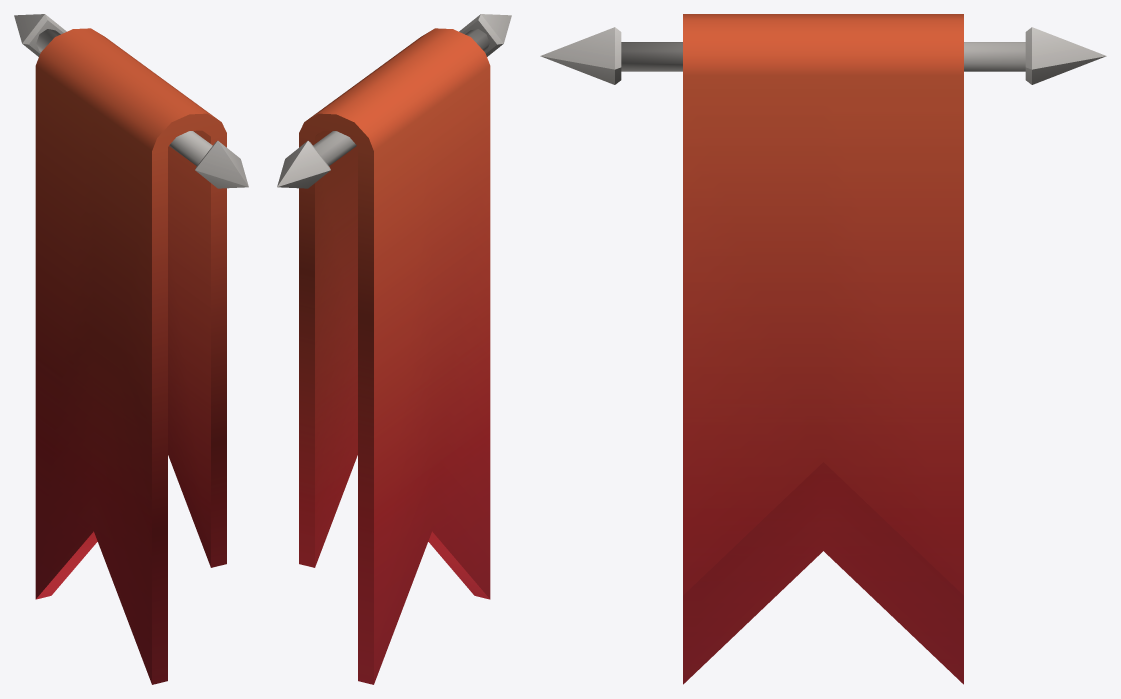
File: dungeonkit_decor_banner.fbx
3 renders of one model, left to right at view 1: azimuth 30°, elevation 25°; view 2: azimuth 150°, elevation 25°; view 3: azimuth 270°, elevation 25°, orthographic. The views are drawn at different scales.
Parts seen in each view (by area): view 1: Cylinder.039; view 2: Cylinder.039; view 3: Cylinder.039.
Boxes of the visible parts, x1,y1,x2,y2 form: Cylinder.039: (14, 14, 248, 684); Cylinder.039: (277, 14, 511, 684); Cylinder.039: (540, 14, 1106, 684).
Size of the model in its own units: 37.22 by 267 by 203.
